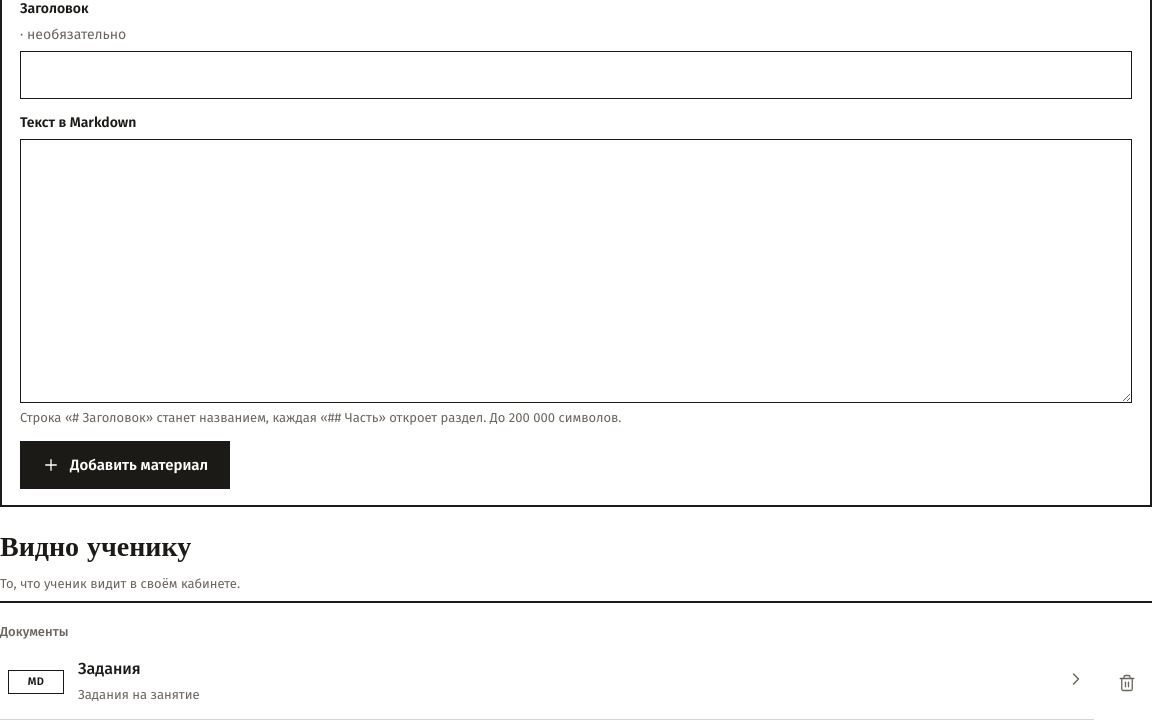
Scoped material reading › lets the owning teacher add and remove materials and reports each change
(page scrolled)
Step 1. Click the button named "Удалить Задания" → (1127, 682), box [1102,662,1151,702]
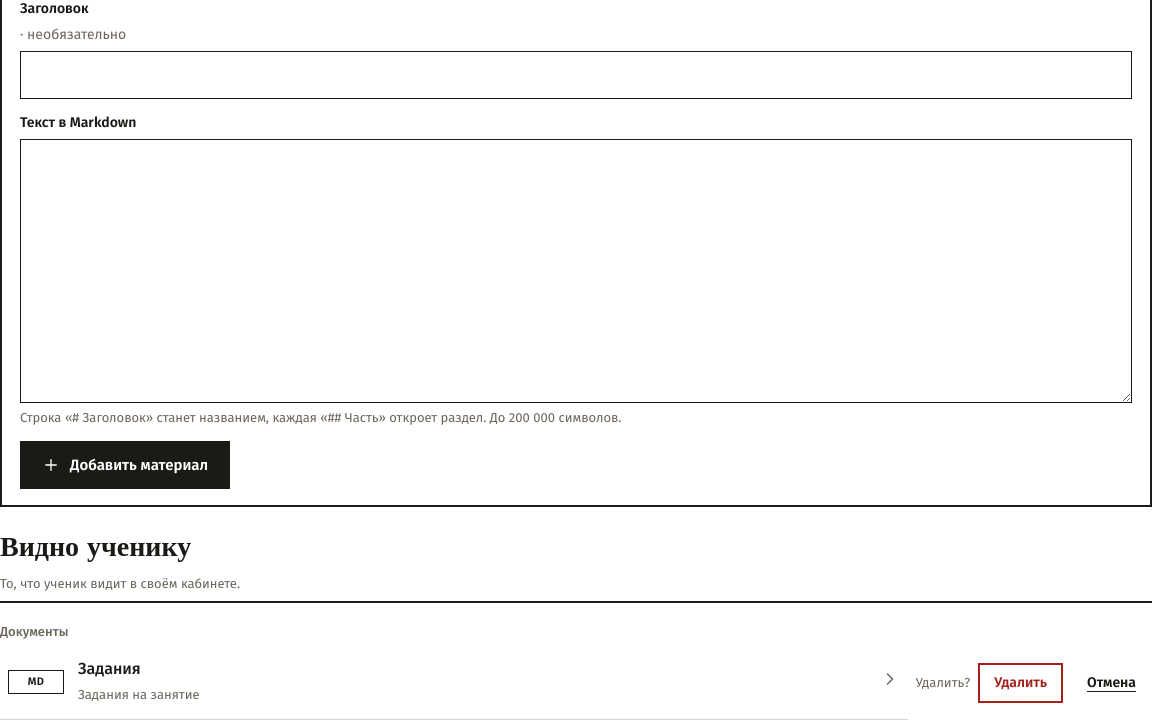
Check: the text "Удалить?" is shown, box [916,674,970,692]
Step 2. Click the button with class "danger" → (1021, 682), box [978,662,1063,702]
(page scrolled)
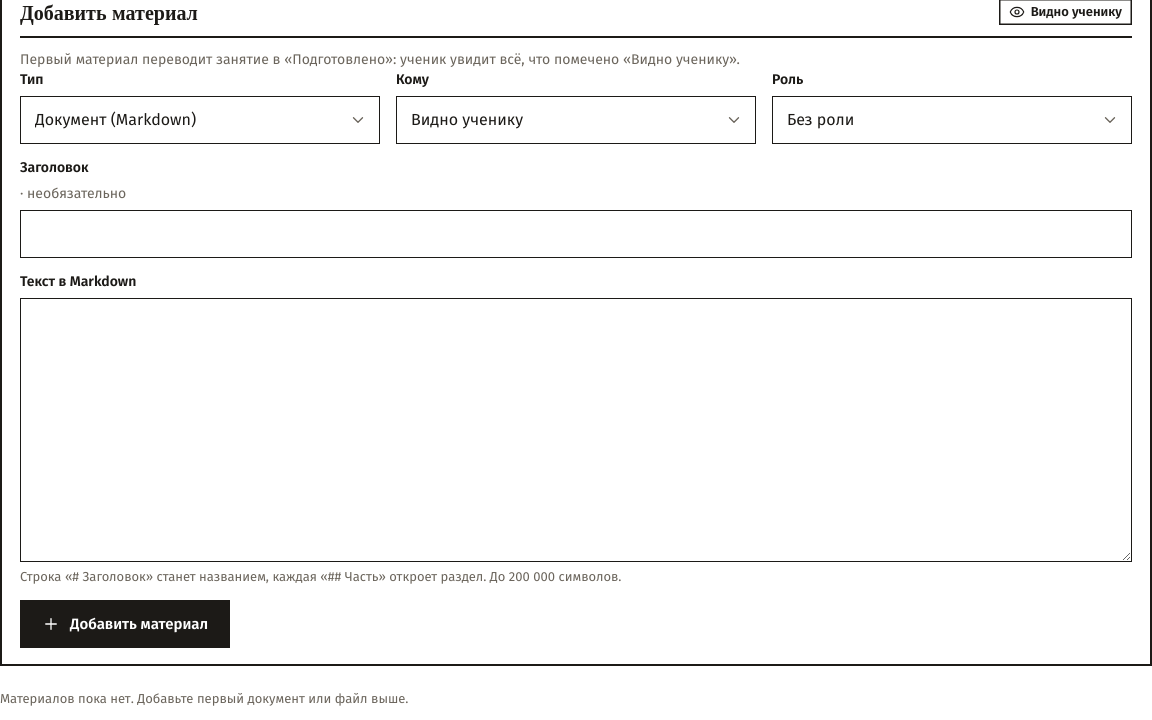
Check: the text "Материалов пока нет" is shown, box [0,691,408,706]
